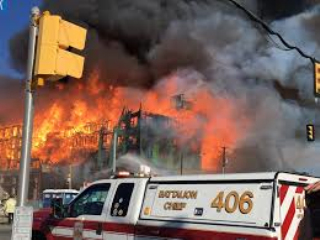fire: (6, 94, 248, 167)
smoke: (56, 7, 310, 87)
